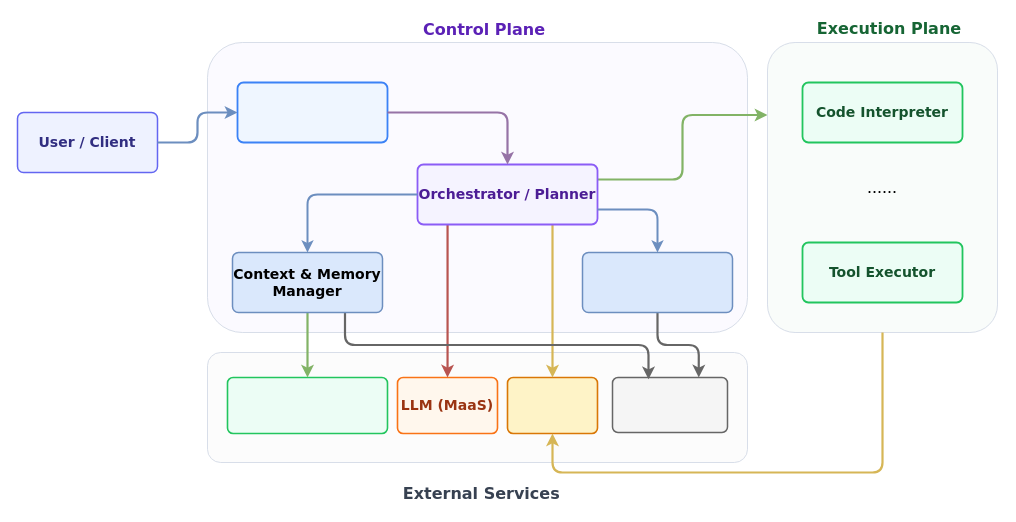
The diagram is 1016 pixels wide and 522 high, and some of its shapes have lost their labels. Here are the shapes that lost their labels. From the top down, the centre of each, then its label:
At [312,112]: "Gateway".
At [657,282]: "Policy / Secrets Manager".
At [307,405]: "Memory & Knowledge Service".
At [552,405]: "Tool / API Services".
At [669,404]: "Persistent Store".
